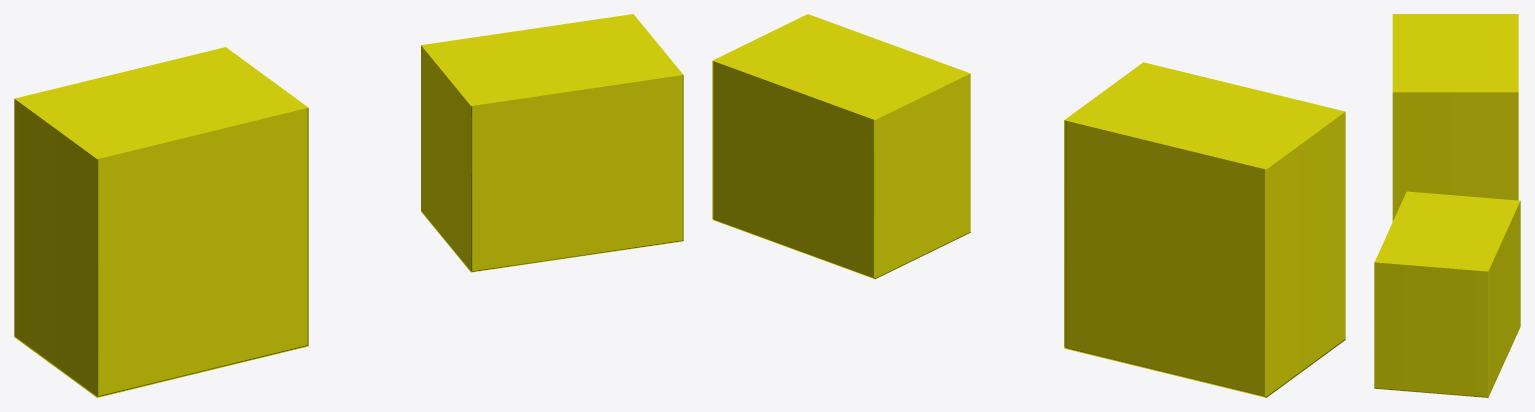
File: Book_Pile_07B_Lod0.fbx
3 renders of one model, left to right at view 1: azimuth 30°, elevation 25°; view 2: azimuth 150°, elevation 25°; view 3: azimuth 270°, elevation 25°, orthographic. The views are drawn at different scales.
Visible parts, largest first — view 1: Book_Pile_07B_Lod0; view 2: Book_Pile_07B_Lod0; view 3: Book_Pile_07B_Lod0.
Part boxes in pixels (box(x1,y1,x2,y2)): Book_Pile_07B_Lod0: box(14, 14, 683, 397); Book_Pile_07B_Lod0: box(712, 14, 1345, 397); Book_Pile_07B_Lod0: box(1374, 14, 1520, 397).
Size of the model in its own units: 89.41 by 34.04 by 24.86.
